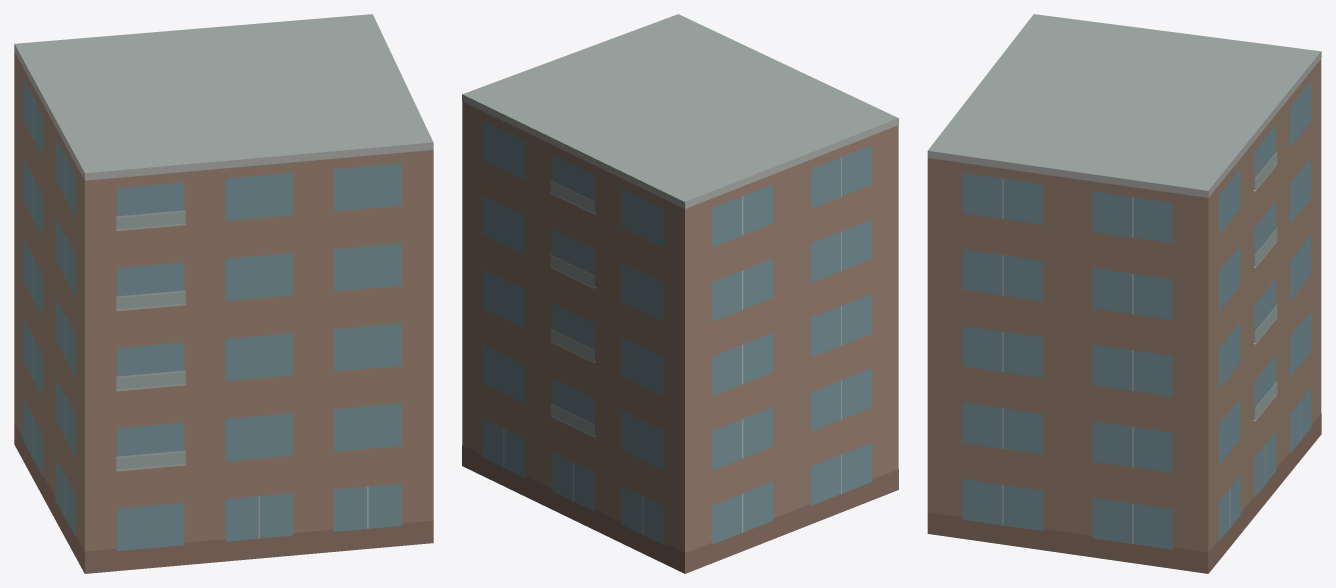
The model's file is survey-upis-32871071.glb.
The picture shows the model from 3 angles, left to right: view 1: azimuth 30°, elevation 25°; view 2: azimuth 150°, elevation 25°; view 3: azimuth 270°, elevation 25°; orthographic projection. The views are drawn at different scales.
Visible parts, largest first — view 1: survey-upis-32871071.tmp; view 2: survey-upis-32871071.tmp; view 3: survey-upis-32871071.tmp.
Part boxes in pixels (x1,y1,x2,y2): survey-upis-32871071.tmp: (14, 14, 433, 573); survey-upis-32871071.tmp: (462, 14, 898, 573); survey-upis-32871071.tmp: (927, 14, 1321, 573).
Bounding box in the file's own units: 13.09 × 13.2 × 12.31.
